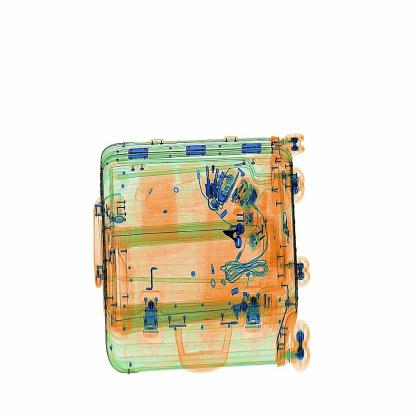gun: (212, 213, 252, 254)
